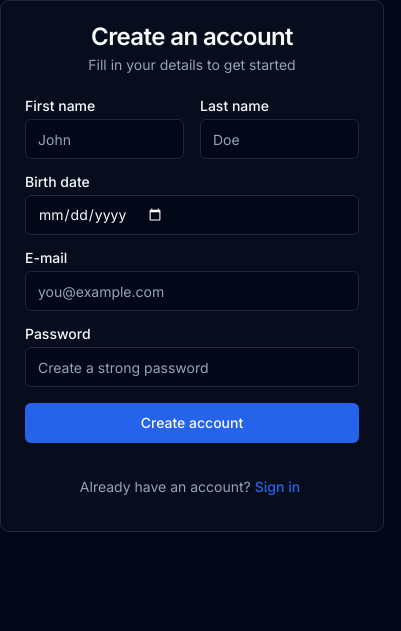
<RegisterForm /> › validates every field
The width and height of the screenshot is (401, 631).
Type "weak" into the password field labelled "Password". click: (192, 367)
box: [25,347,359,387]
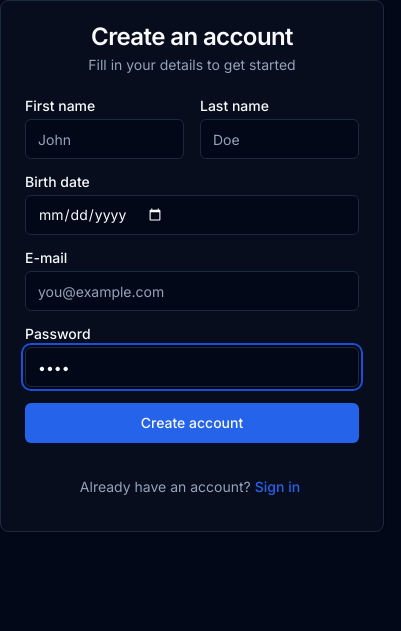
Click the button "Create account". click: click(192, 423)
box: [25,403,359,443]
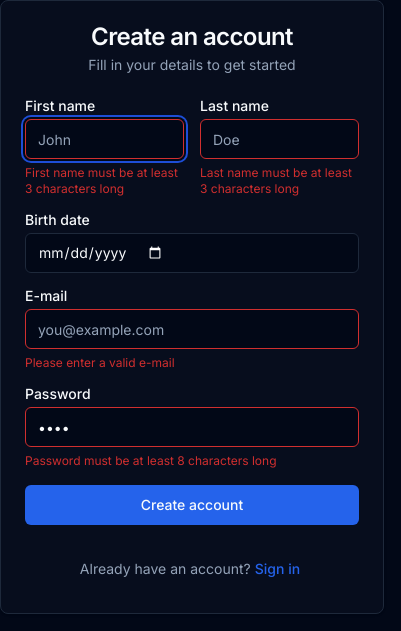
Now the text "First name must be at least 3 characters long" is shown, box [25,165,184,197]
Now the text "Last name must be at least 3 characters long" is shown, box [200,165,359,197]
Now the text "Please enter a valid e-mail" is shown, box [25,355,175,370]
